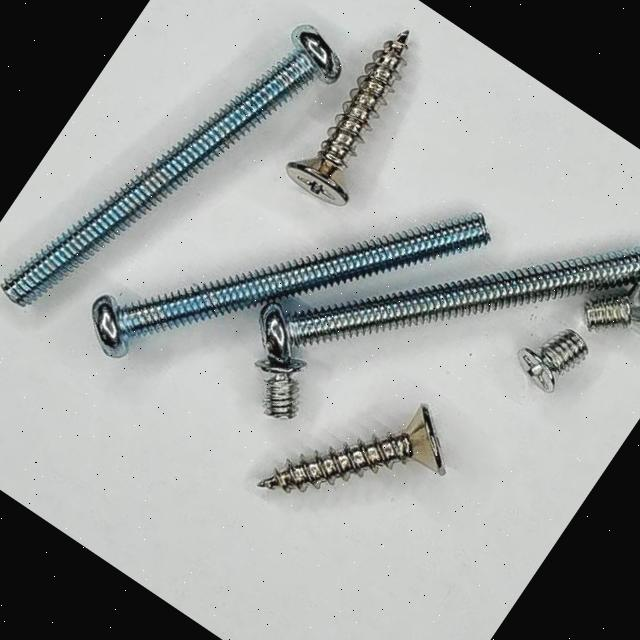Screw: (0, 25, 340, 306), (91, 214, 489, 357), (260, 246, 640, 362), (287, 31, 408, 204), (257, 406, 445, 493), (518, 330, 588, 393), (255, 357, 304, 420), (584, 285, 640, 333)
